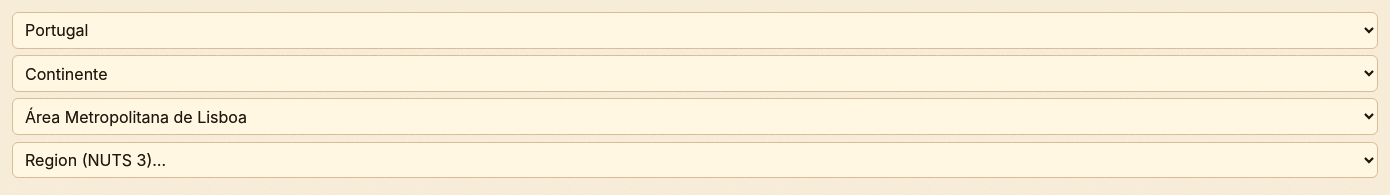
Test case: NutsRegionPicker › changing a higher level resets the levels below it
Select "Germany" in the dropdown with test id "nuts-l0": (695, 30) [12,12,1378,49]
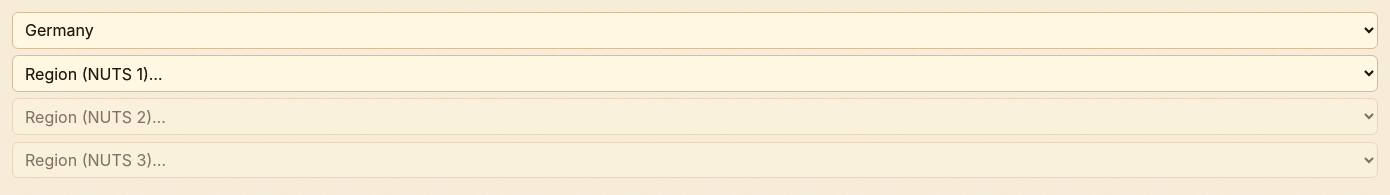
Expected: the dropdown with test id "nuts-l1" shows "Region (NUTS 1)…", [12,55,1378,92]
